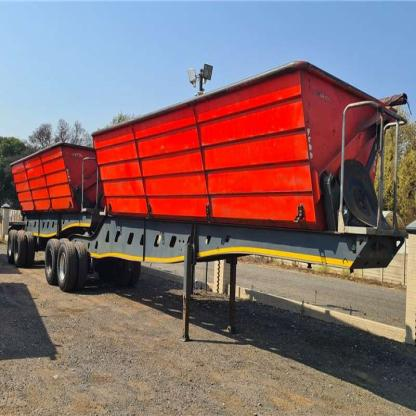dump_truck: (17, 60, 403, 369)
